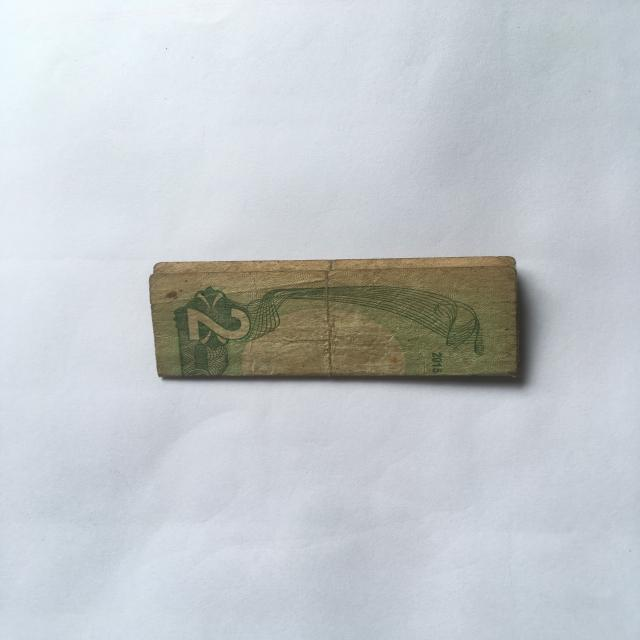Taka: (135, 248, 528, 386)
